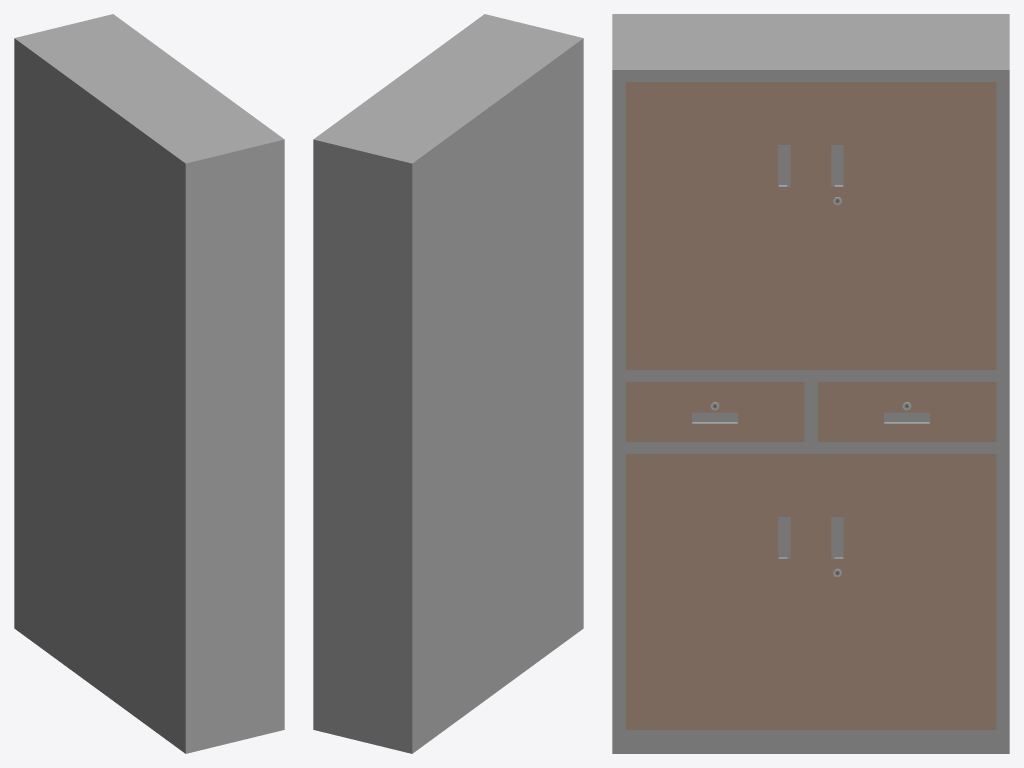
Rendered from LockerWithPendrive.fbx.
3 renders of one model, left to right at view 1: azimuth 30°, elevation 25°; view 2: azimuth 150°, elevation 25°; view 3: azimuth 270°, elevation 25°, orthographic. The views are drawn at different scales.
Parts seen in each view (by area): view 1: Cube; view 2: Cube; view 3: Cube.008, Cube, Cube.009, Cube.011, Cube.006.
Boxes of the visible parts, <box> form: Cube: <box>14,14,284,753</box>; Cube: <box>313,14,583,753</box>; Cube.008: <box>625,82,996,729</box>; Cube: <box>612,14,1009,753</box>; Cube.009: <box>625,382,804,441</box>; Cube.011: <box>817,382,996,441</box>; Cube.006: <box>778,145,843,558</box>.
Bounding box in the file's own units: 201 × 1140 × 600.
